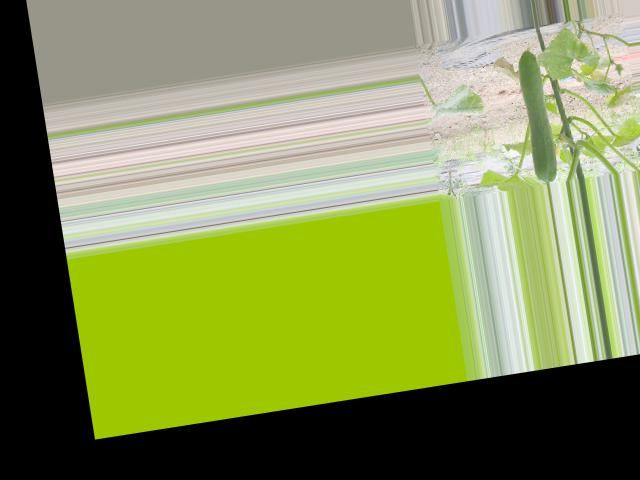cucumber: (514, 44, 559, 183)
